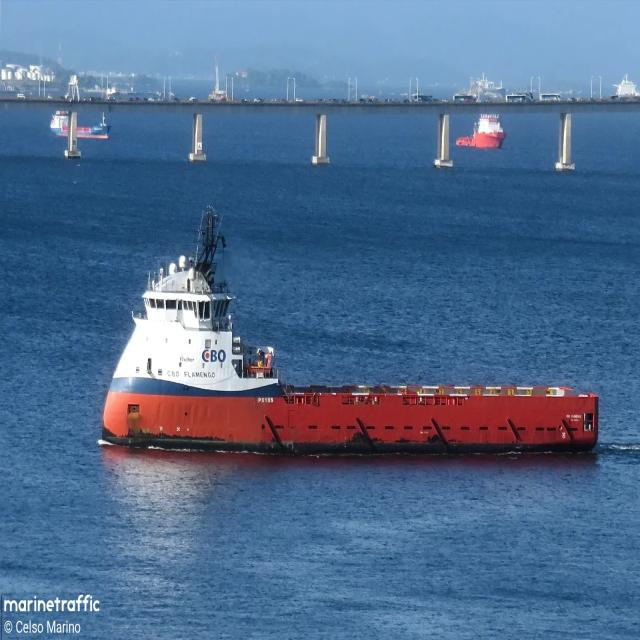Offshore: (101, 206, 598, 454), (456, 113, 506, 148)
